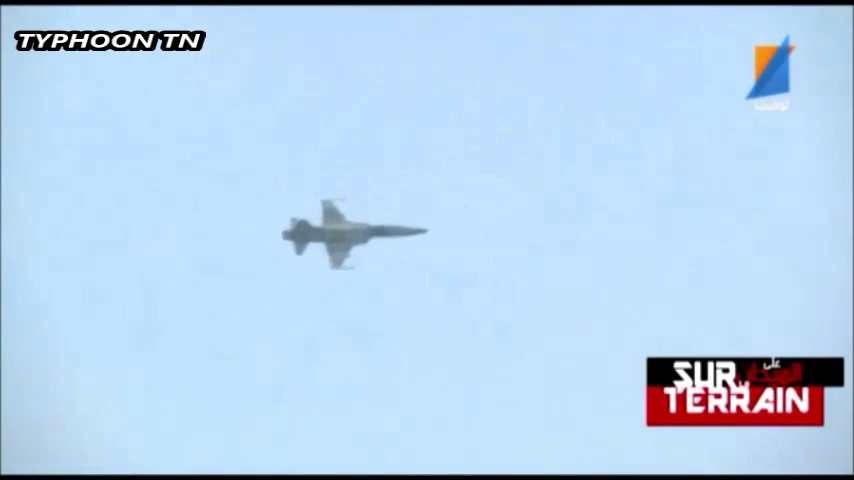Airplane: (275, 198, 430, 268)
